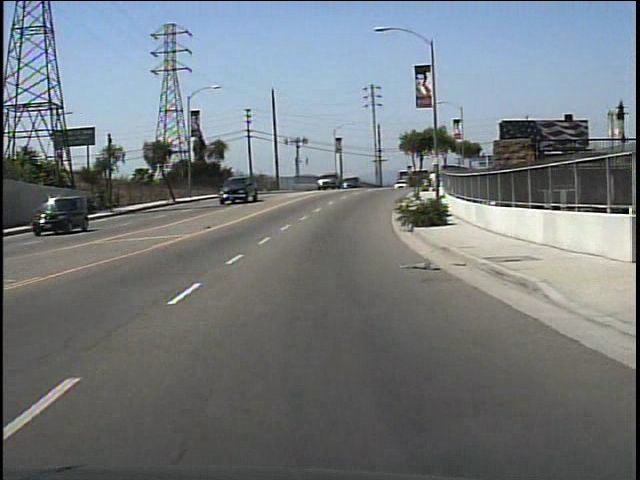person: (427, 168, 439, 195)
